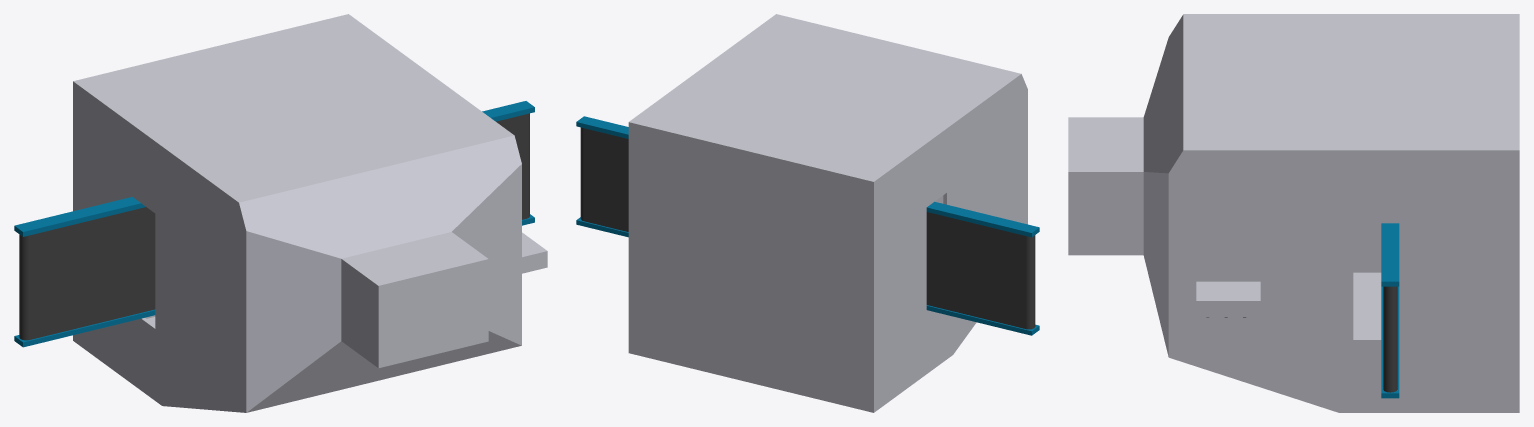
The model's file is Automatic Profile Spraying Machine.glb.
The picture shows the model from 3 angles, left to right: view 1: azimuth 30°, elevation 25°; view 2: azimuth 150°, elevation 25°; view 3: azimuth 270°, elevation 25°; orthographic projection. The views are drawn at different scales.
Visible parts, largest first — view 1: Solid1, Solid10, Solid2, Solid7; view 2: Solid1, Solid10, Solid2; view 3: Solid1, Solid7, Solid2, Solid3, Solid10.
Part boxes in pixels (x1,y1,x2,y2): Solid1: [73, 14, 521, 412]; Solid10: [19, 113, 529, 340]; Solid2: [14, 101, 534, 347]; Solid7: [522, 232, 547, 273]; Solid1: [628, 14, 1027, 412]; Solid10: [580, 127, 1035, 329]; Solid2: [576, 116, 1039, 335]; Solid1: [1068, 14, 1519, 412]; Solid7: [1196, 281, 1260, 317]; Solid2: [1381, 223, 1399, 398]; Solid3: [1353, 272, 1381, 337]; Solid10: [1383, 286, 1397, 392].
Bounding box in the file's own units: 3.3 × 1.65 × 2.49.
